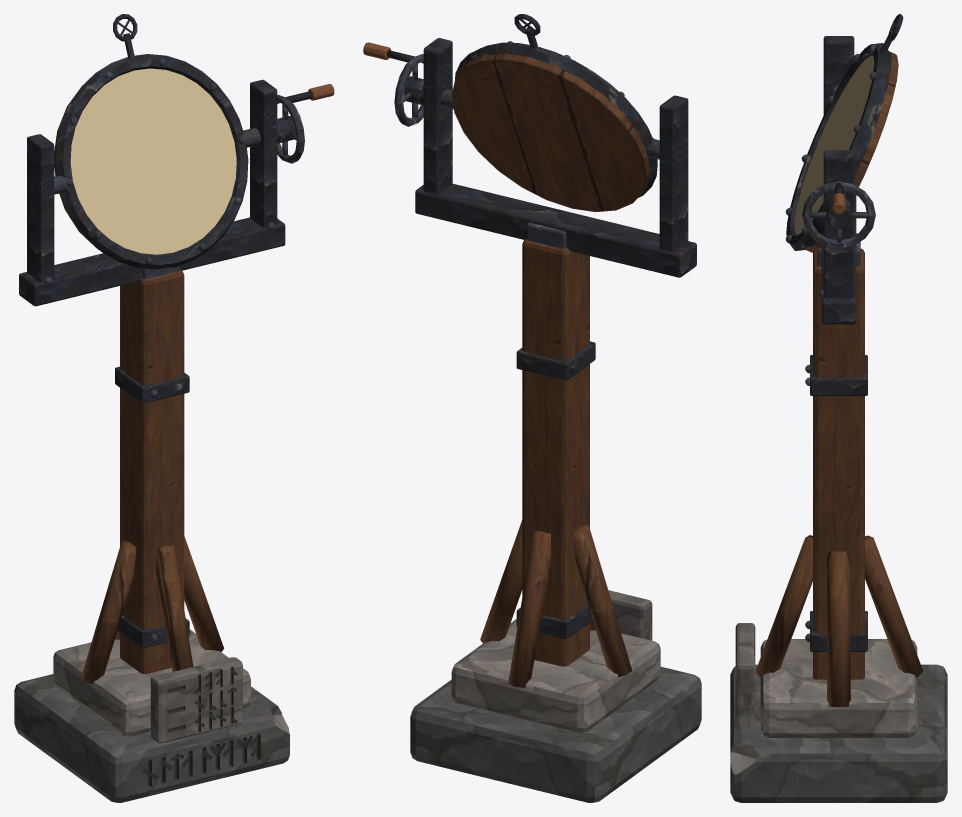
File: rt_signal_mirror_stand.glb
The picture shows the model from 3 angles, left to right: view 1: azimuth 30°, elevation 25°; view 2: azimuth 150°, elevation 25°; view 3: azimuth 270°, elevation 25°; orthographic projection. The views are drawn at different scales.
Visible parts, largest first — view 1: model; view 2: model; view 3: model.
Boxes of the visible parts, bbox=[...] form: model: bbox=[14, 14, 334, 802]; model: bbox=[363, 14, 701, 802]; model: bbox=[730, 14, 947, 802].
Size of the model in its own units: 0.85 by 1.89 by 0.5.
9 materials, 7 textured.
